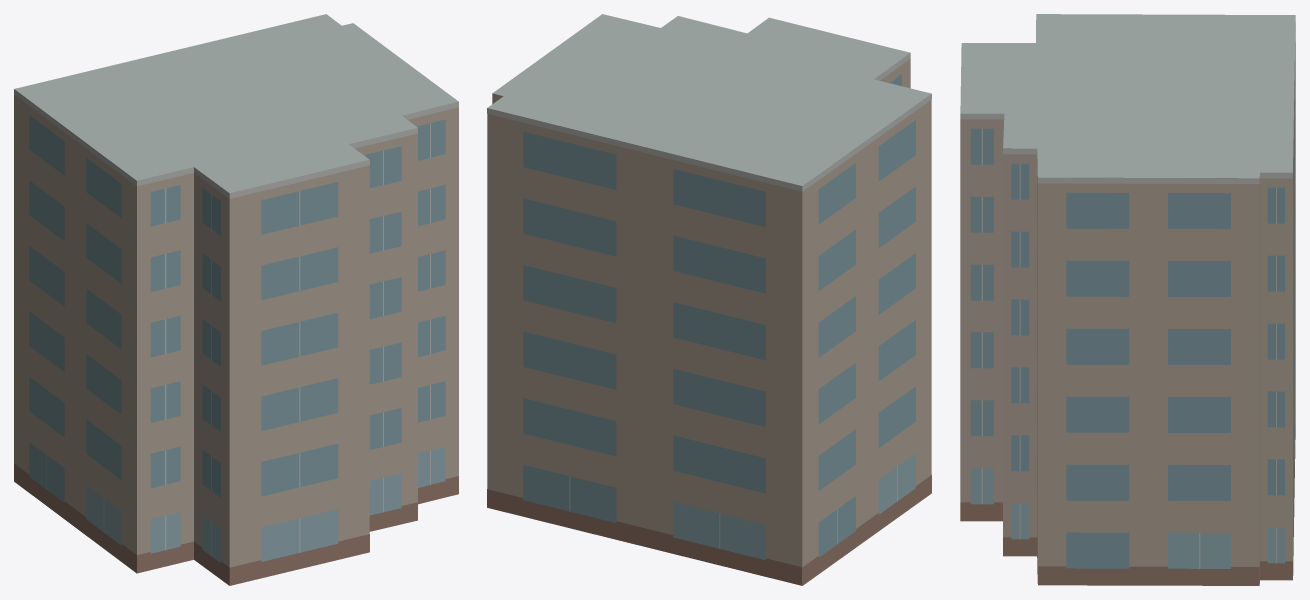
File: survey-upis-32938179.glb
3 views of the same model, side by side, from view 1: azimuth 30°, elevation 25°; view 2: azimuth 150°, elevation 25°; view 3: azimuth 270°, elevation 25° (orthographic). The views are drawn at different scales.
Parts seen in each view (by area): view 1: survey-upis-32938179.tmp; view 2: survey-upis-32938179.tmp; view 3: survey-upis-32938179.tmp.
Boxes of the visible parts, left/top/right/bottom form: survey-upis-32938179.tmp: left=14, top=14, right=458, bottom=585; survey-upis-32938179.tmp: left=487, top=14, right=931, bottom=585; survey-upis-32938179.tmp: left=960, top=14, right=1295, bottom=585.
Bounding box in the file's own units: 14.69 × 17 × 12.68.
